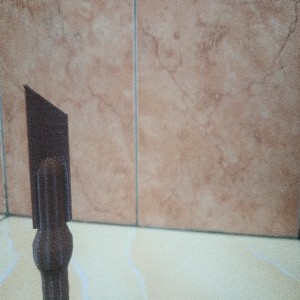cutter: (22, 82, 75, 300)
